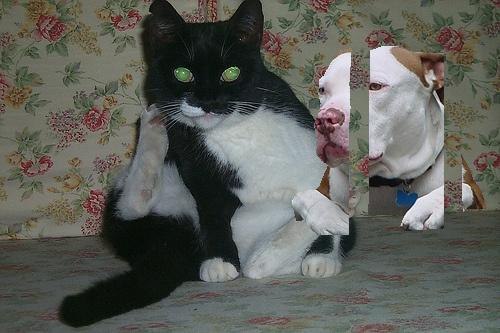tampered: (293, 47, 487, 235)
